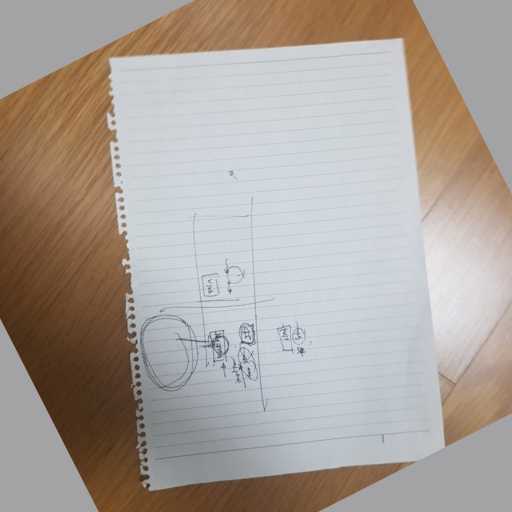Paper_2: (100, 35, 469, 497)
